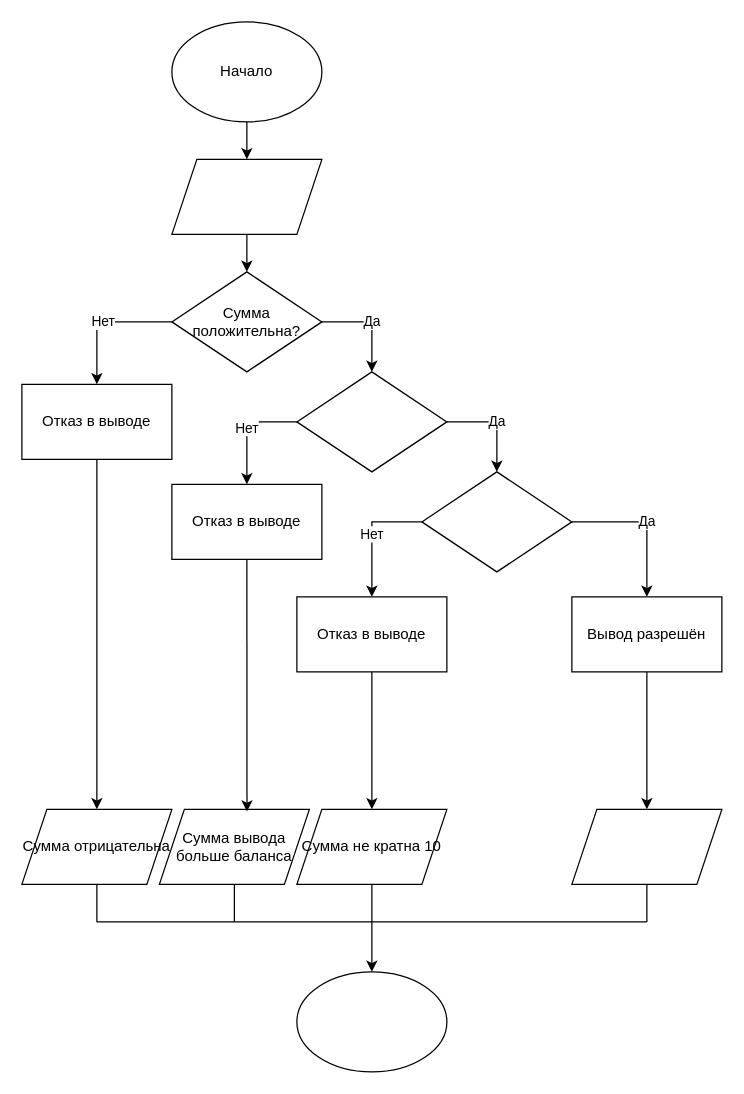
This 744x1094 diagram has some shape labels left out. Each missing label, with the centre of its shape:
"Вывести сумму" belongs at pixel 646 846.
"Конец" belongs at pixel 371 1021.
"Сумма кратна 10?" belongs at pixel 496 521.
"Сумма не превышает баланс?" belongs at pixel 371 421.
"Считать введённую сумму" belongs at pixel 246 196.
